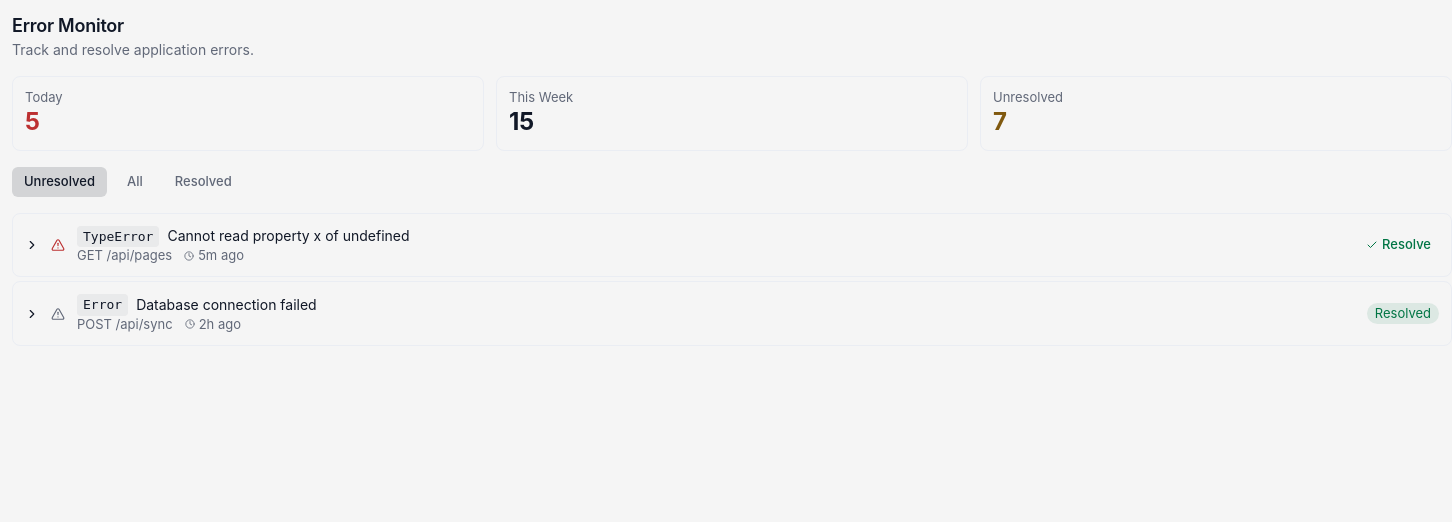
Test: ErrorDashboard › expands error details on click
Expected: the element with test id "error-row-err-1" is shown, 12,213 -> 1451,277
Click the text "Cannot read property x of undefined". click: point(289, 236)
box: 168,226 -> 410,246
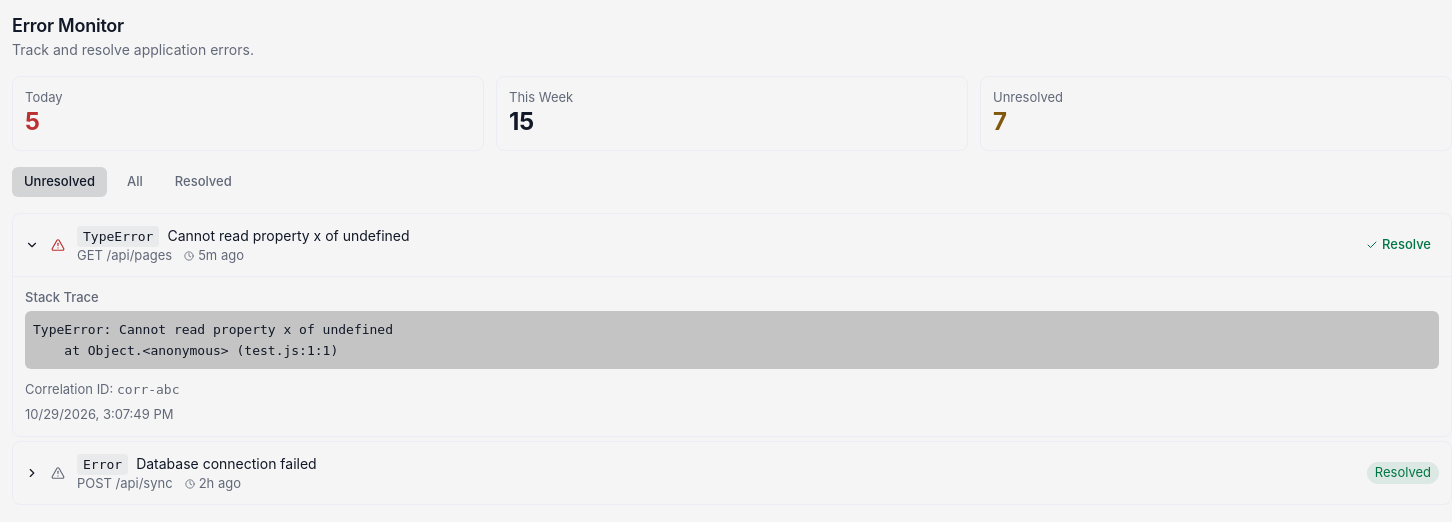
Expected: the element with test id "error-detail-err-1" is shown, 13,276 -> 1451,436
